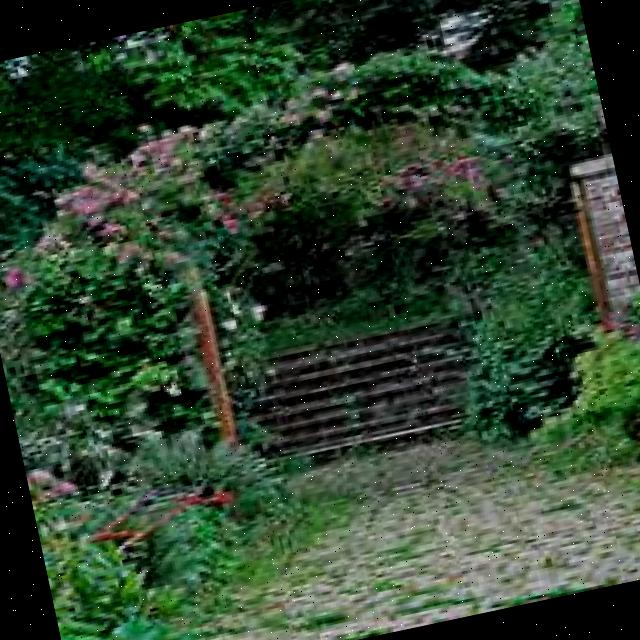stairs: (170, 248, 537, 498)
